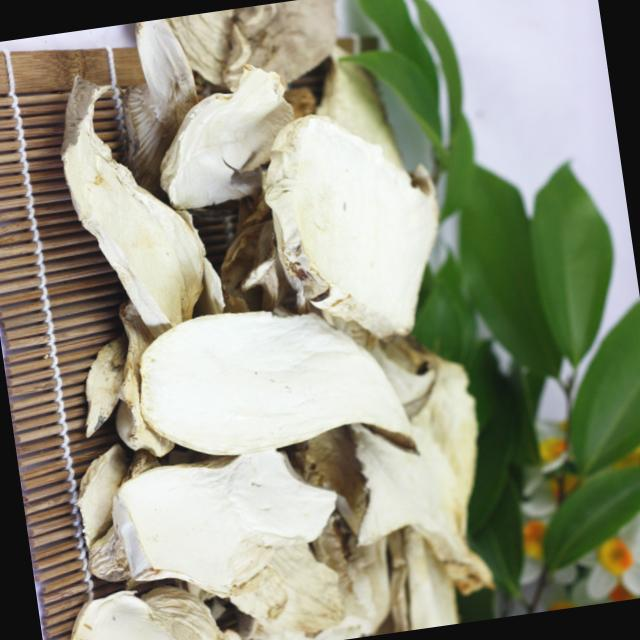Pleurotus eryngii: (95, 276, 445, 504)
